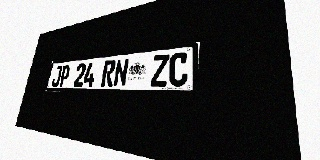2: (73, 63, 87, 87)
4: (83, 62, 97, 87)
C: (168, 52, 189, 86)
J: (51, 65, 63, 87)
N: (113, 58, 129, 87)
P: (58, 64, 71, 87)
R: (101, 60, 116, 87)
Z: (150, 54, 170, 86)
